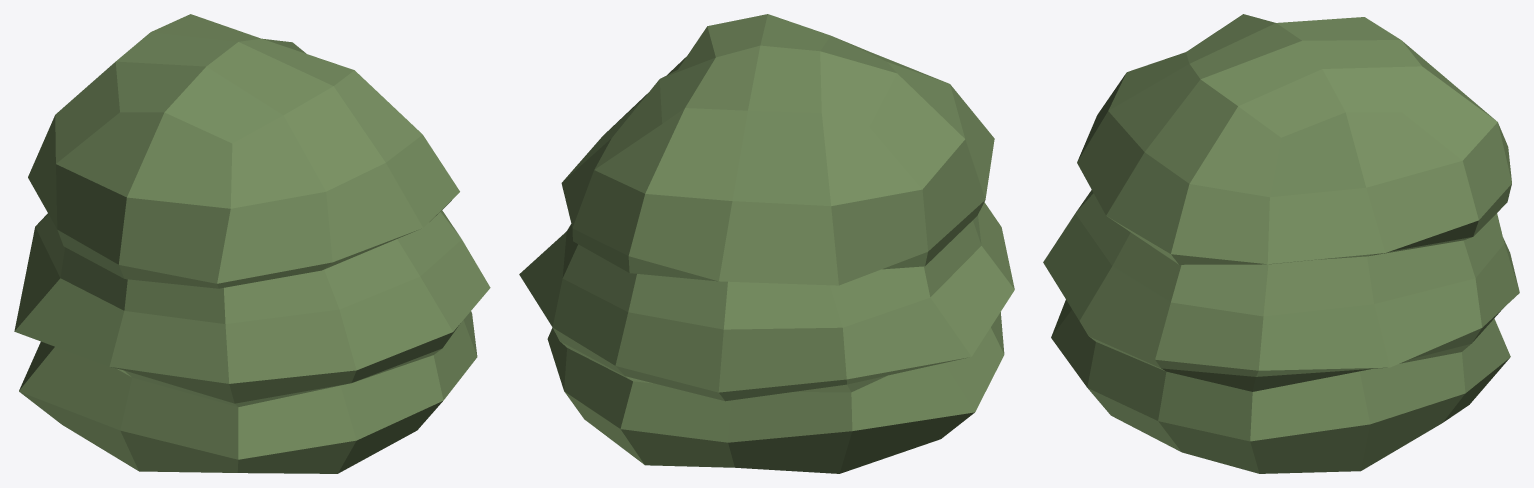
Rendered from bush_2.glb.
3 views of the same model, side by side, from view 1: azimuth 30°, elevation 25°; view 2: azimuth 150°, elevation 25°; view 3: azimuth 270°, elevation 25° (orthographic). The views are drawn at different scales.
Visible parts, largest first — view 1: bush_2; view 2: bush_2; view 3: bush_2.
Part boxes in pixels (left/top/right/bottom): bush_2: left=14, top=14, right=490, bottom=473; bush_2: left=519, top=14, right=1014, bottom=473; bush_2: left=1043, top=14, right=1519, bottom=473.
Bounding box in the file's own units: 1.35 × 1.11 × 1.33.
